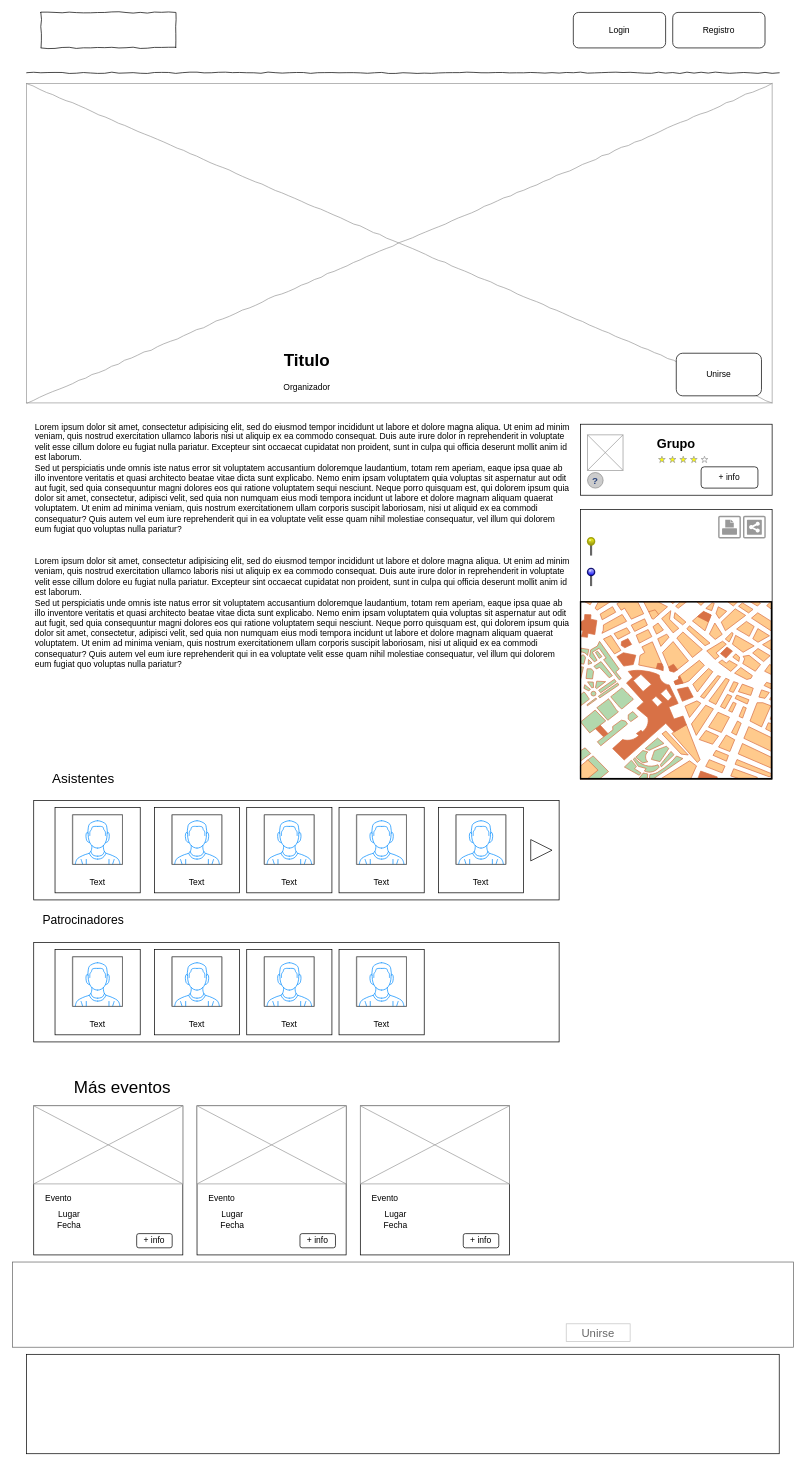
Image size: 806x1466. Some labels were removed from this diagram. The box of each missing label's shape, as (x1, y1, x2, y2) in pixels:
Footer: (26, 1354, 779, 1454)
LOGO: (40, 12, 176, 48)
Titulo del evento Fecha, Hora, Lugar: (12, 1261, 793, 1347)
